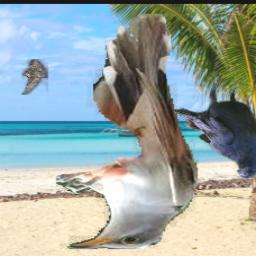Crow: (174, 77, 256, 180)
Cuckoo: (57, 15, 200, 250)
Sparrow: (21, 59, 48, 95)
